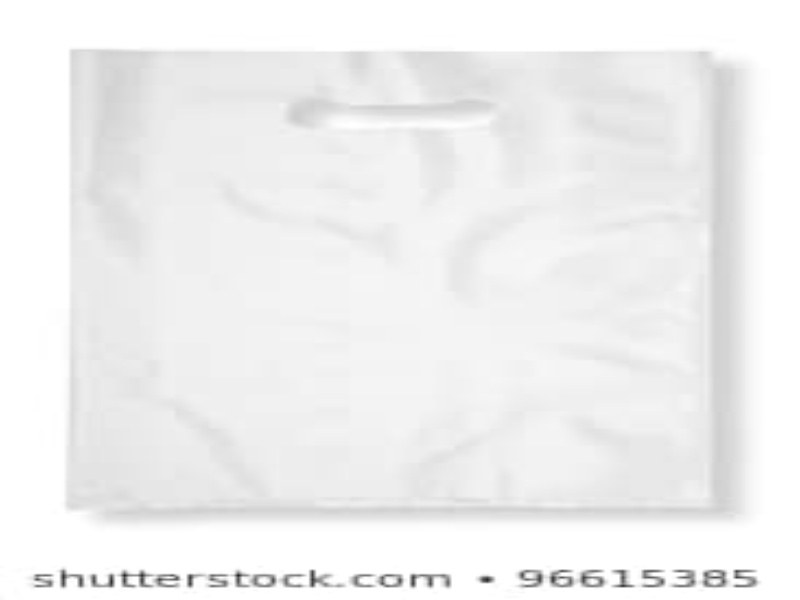plastic-bag: (58, 46, 730, 512)
